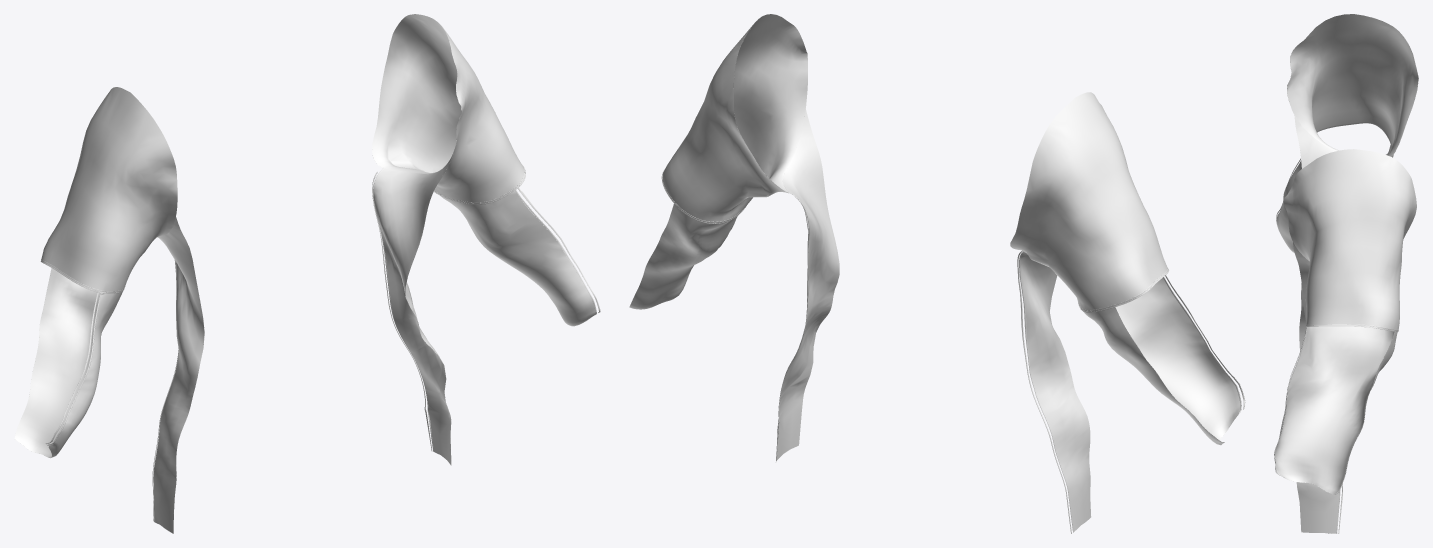
File: Jac_Hands.glb
3 views of the same model, side by side, from view 1: azimuth 30°, elevation 25°; view 2: azimuth 150°, elevation 25°; view 3: azimuth 270°, elevation 25° (orthographic). The views are drawn at different scales.
Parts seen in each view (by area): view 1: Jac_Main1_4.001, Jac_Main1_5.001; view 2: Jac_Main1_4.001, Jac_Main1_5.001; view 3: Jac_Main1_4.001, Jac_Main1_5.001.
Boxes of the visible parts, box(x1,y1,x2,y2) form: Jac_Main1_4.001: box(14, 14, 595, 533); Jac_Main1_5.001: box(40, 165, 600, 521); Jac_Main1_4.001: box(629, 14, 1240, 531); Jac_Main1_5.001: box(661, 171, 1245, 533); Jac_Main1_4.001: box(1275, 14, 1418, 533); Jac_Main1_5.001: box(1274, 157, 1398, 533).
Size of the model in its own units: 1.39 by 1.01 by 0.3385.
Materials: 2 (2 with a texture image).
